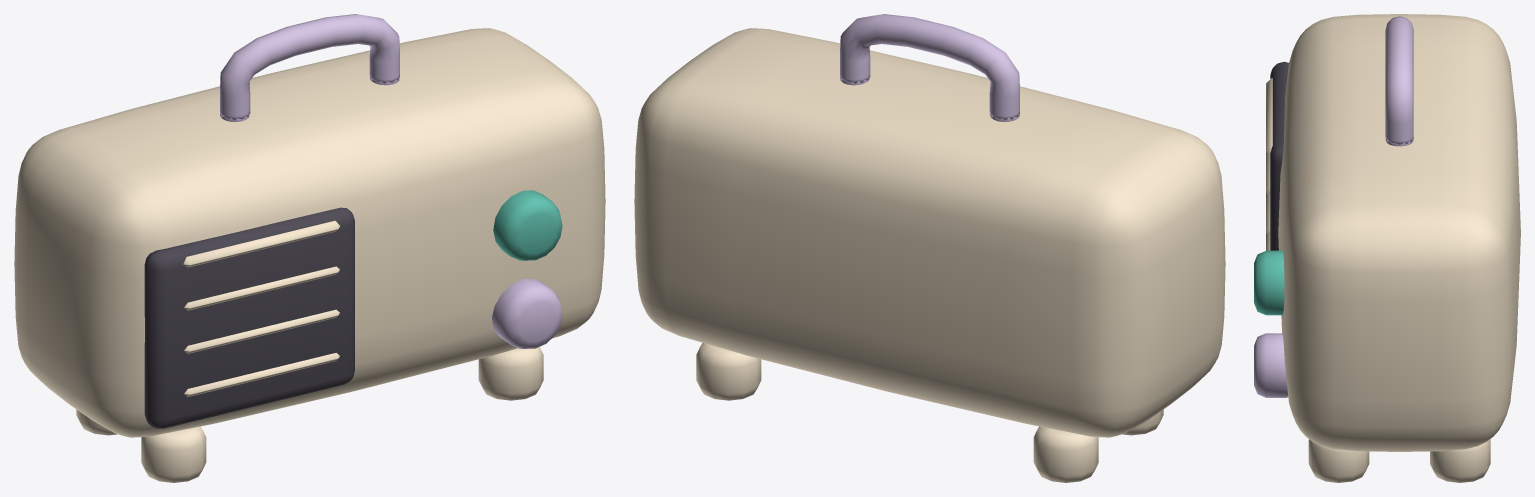
File: radio_c.glb
3 renders of one model, left to right at view 1: azimuth 30°, elevation 25°; view 2: azimuth 150°, elevation 25°; view 3: azimuth 270°, elevation 25°, orthographic. The views are drawn at different scales.
Visible parts, largest first — view 1: body; view 2: body; view 3: body.
Part boxes in pixels (x1,y1,x2,y2): body: (14,14,605,482); body: (634,14,1225,482); body: (1254,14,1520,482).
Size of the model in its own units: 0.28 by 0.197 by 0.132.
